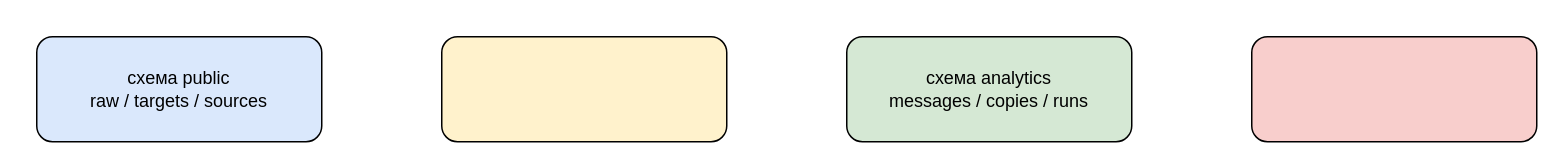
Image size: 1563x168. Some labels were removed from this diagram. Each missing label, with the centre of its shape:
Воркер аналітики advisory lock пакети за watermark: [583,88]
Звіти в admin статус / звіт / пари: [1393,88]
